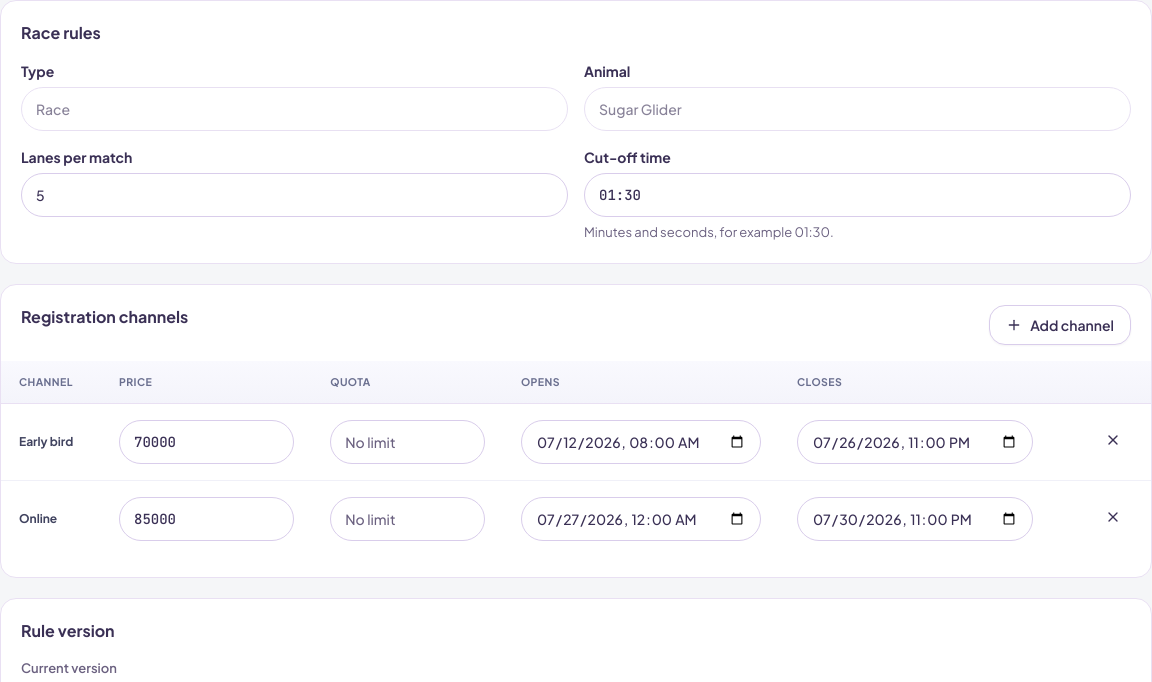
it: CompetitionSettings › offers Add channel only while a channel type is free
Click the button "Add channel". click: [1060, 324]
box: [989,304,1131,344]
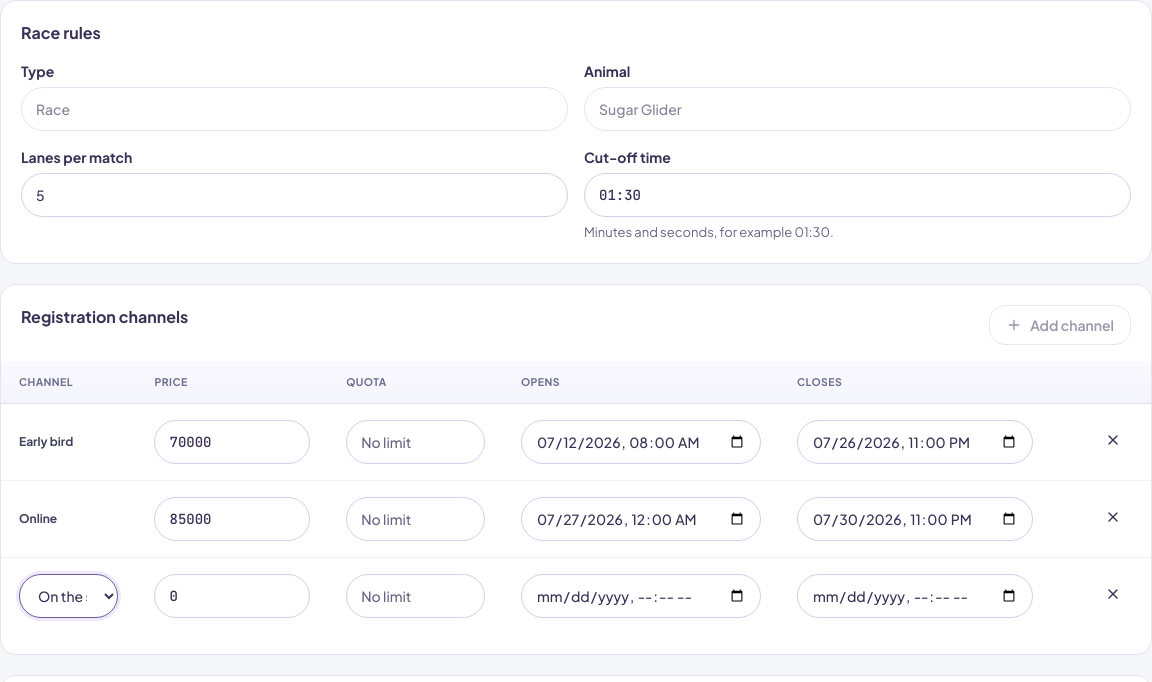
Now the dropdown named "Channel type of row 3" shows "On the spot", box [19,574,118,618]
Now the button "Add channel" is disabled, box [989,304,1131,344]
